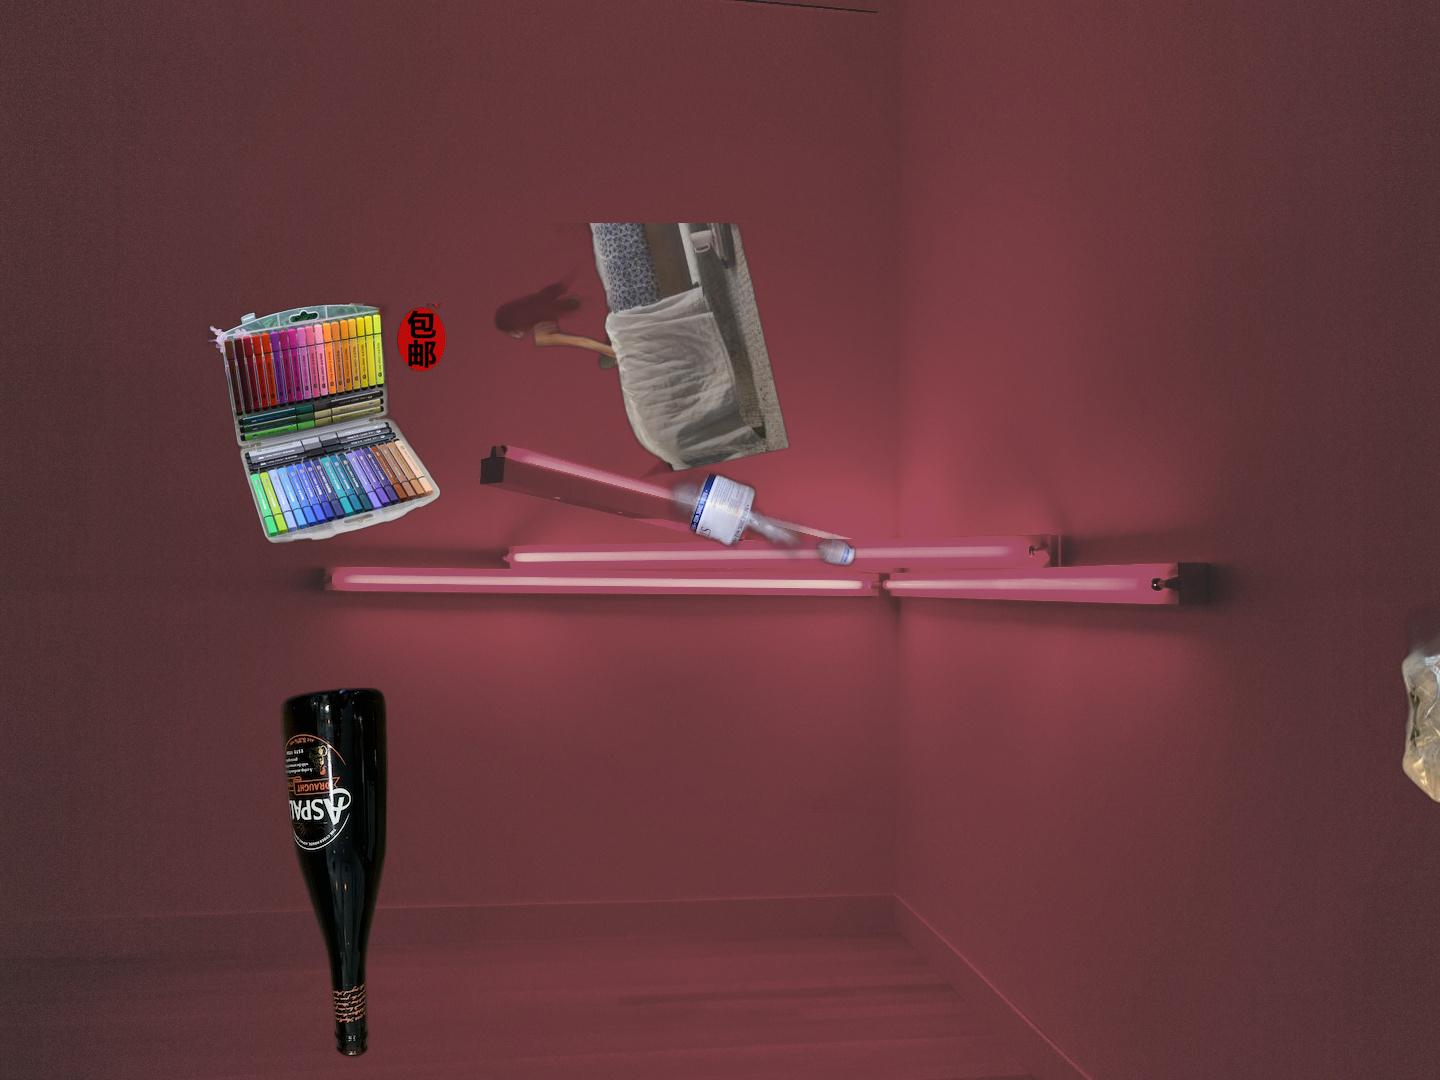glass: (277, 683, 391, 1064)
paper: (491, 223, 931, 607)
penholder: (207, 303, 447, 543)
plastic-bottles: (450, 277, 962, 813), (1397, 589, 1440, 815)
